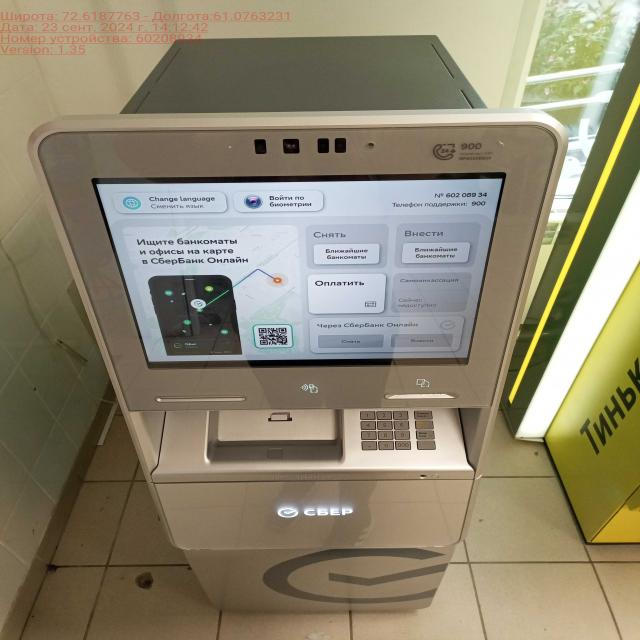bank: (32, 31, 566, 620)
